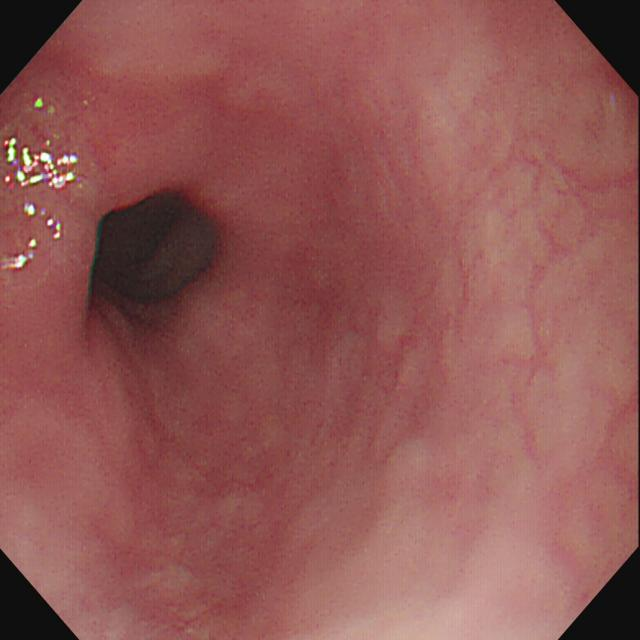A: (116, 361, 186, 471)
E: (100, 195, 217, 301)
U: (3, 137, 80, 192), (2, 239, 37, 271), (48, 219, 61, 240), (24, 203, 36, 218)
